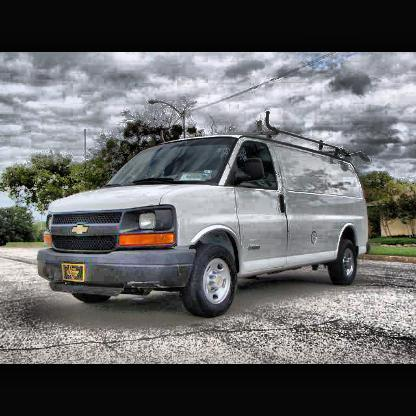Chevrolet Express Cargo Van 2007: (38, 113, 370, 317)
